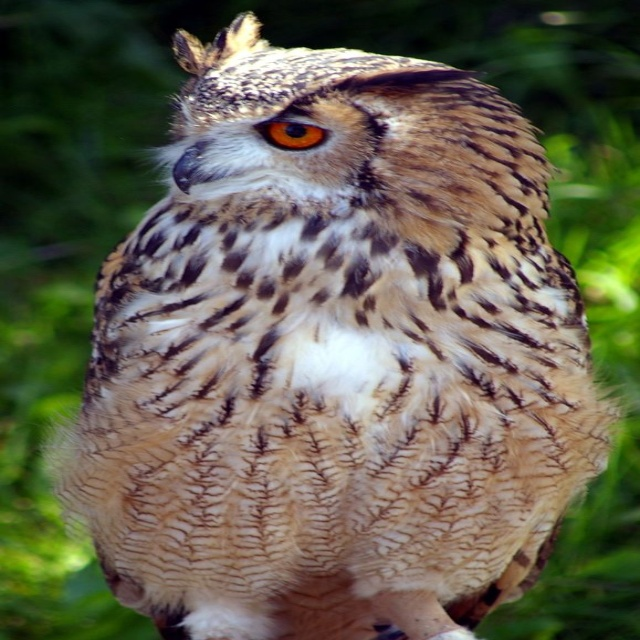Owl: (50, 0, 614, 640)
